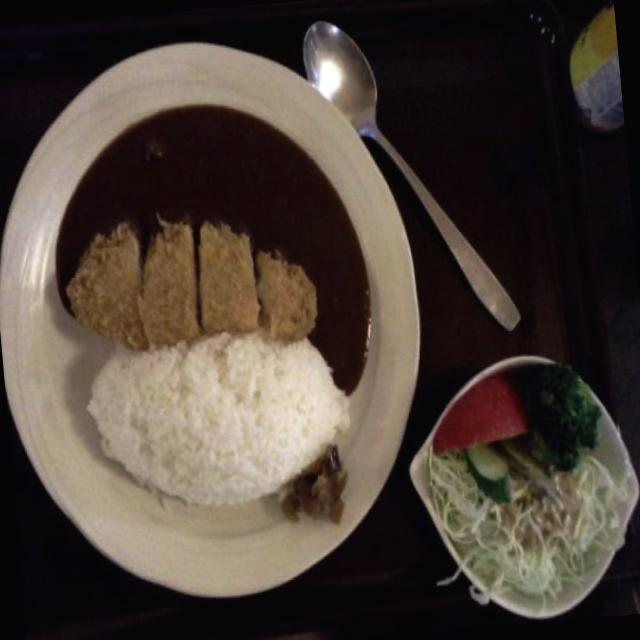Green Salad: (426, 364, 622, 581)
